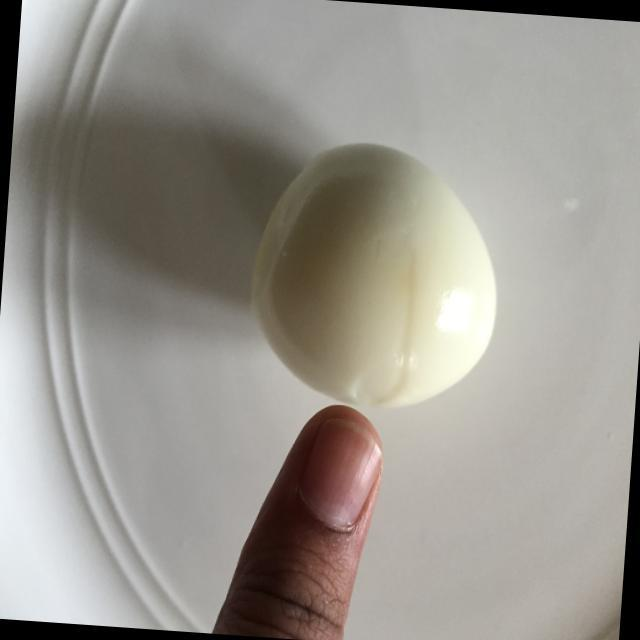Egg: (231, 131, 520, 413)
Finger: (239, 397, 400, 640)
